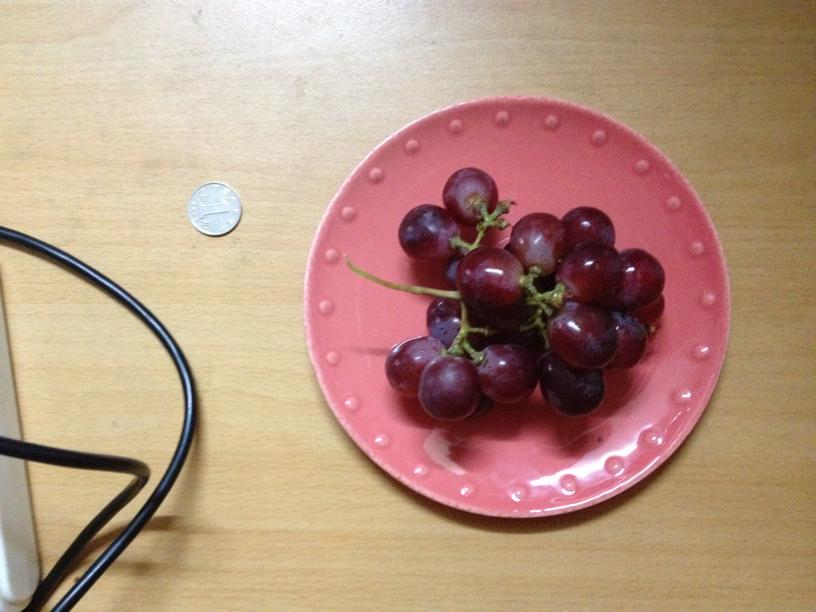coin: (189, 180, 243, 235)
grape: (385, 161, 665, 429)
